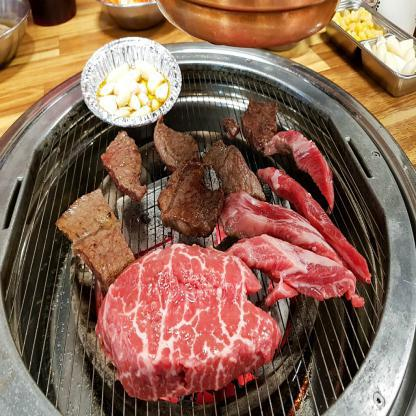beef: (108, 235, 276, 370), (270, 174, 353, 300), (270, 127, 344, 202), (68, 194, 129, 270), (170, 159, 214, 230), (106, 125, 144, 202), (207, 134, 254, 193), (156, 114, 205, 169), (246, 102, 275, 144)
